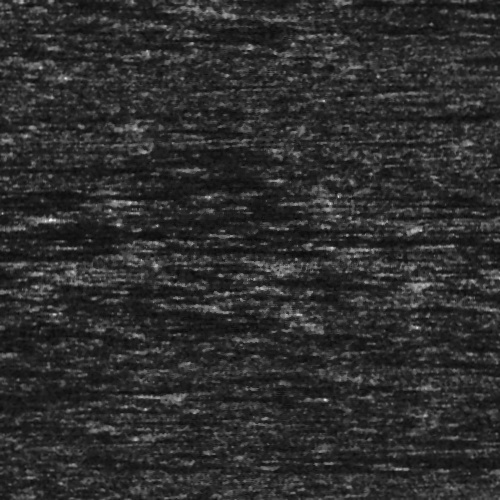object: (306, 242, 369, 253), (105, 427, 178, 436), (137, 165, 190, 170), (495, 449, 500, 460)
shadow: (282, 449, 500, 460), (164, 242, 338, 253), (367, 0, 500, 7), (58, 427, 141, 436), (75, 165, 163, 170), (440, 225, 500, 230)
